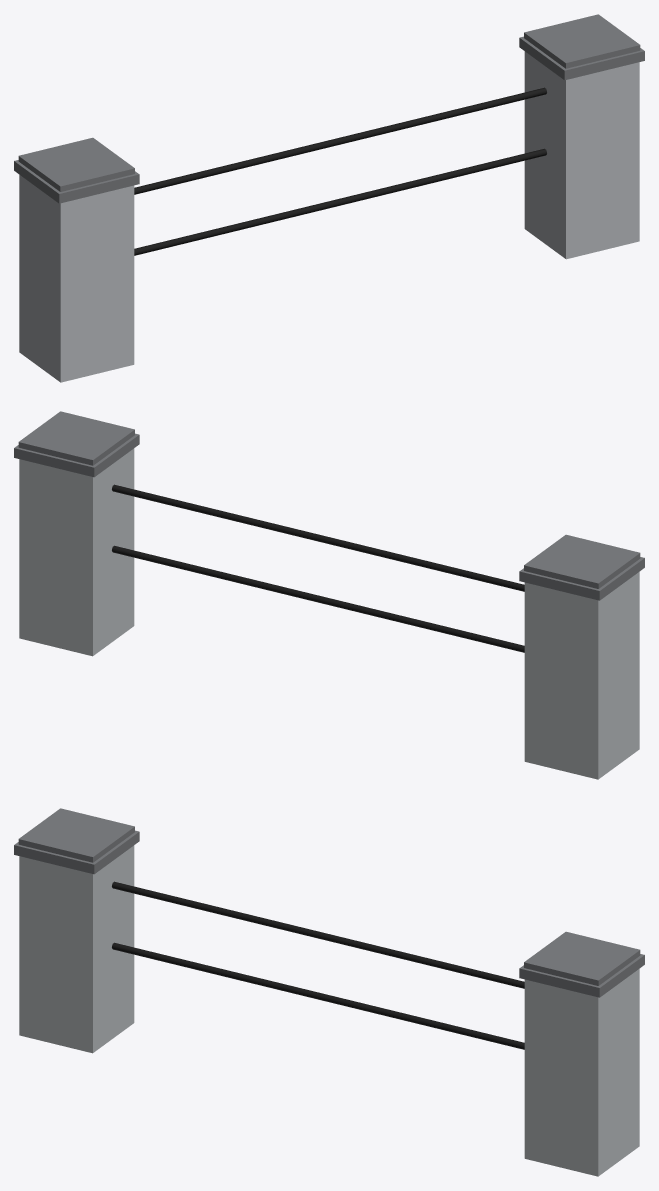
File: SM_fence_03.fbx
3 renders of one model, top to bottom at view 1: azimuth 30°, elevation 25°; view 2: azimuth 150°, elevation 25°; view 3: azimuth 330°, elevation 25°, orthographic.
Parts seen in each view (by area): view 1: Box218; view 2: Box218; view 3: Box218.
Part boxes in pixels (box(x1,y1,x2,y2)): Box218: box(14, 14, 644, 382); Box218: box(14, 411, 644, 779); Box218: box(14, 808, 644, 1176).
Bounding box in the file's own units: 152 × 20.33 × 48.73.
